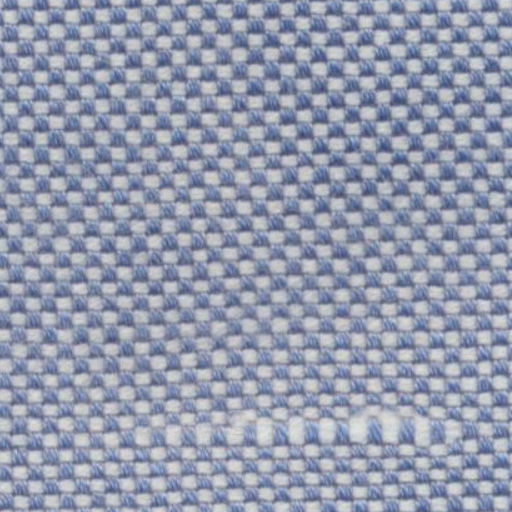DaiSha: (140, 398, 466, 468)
